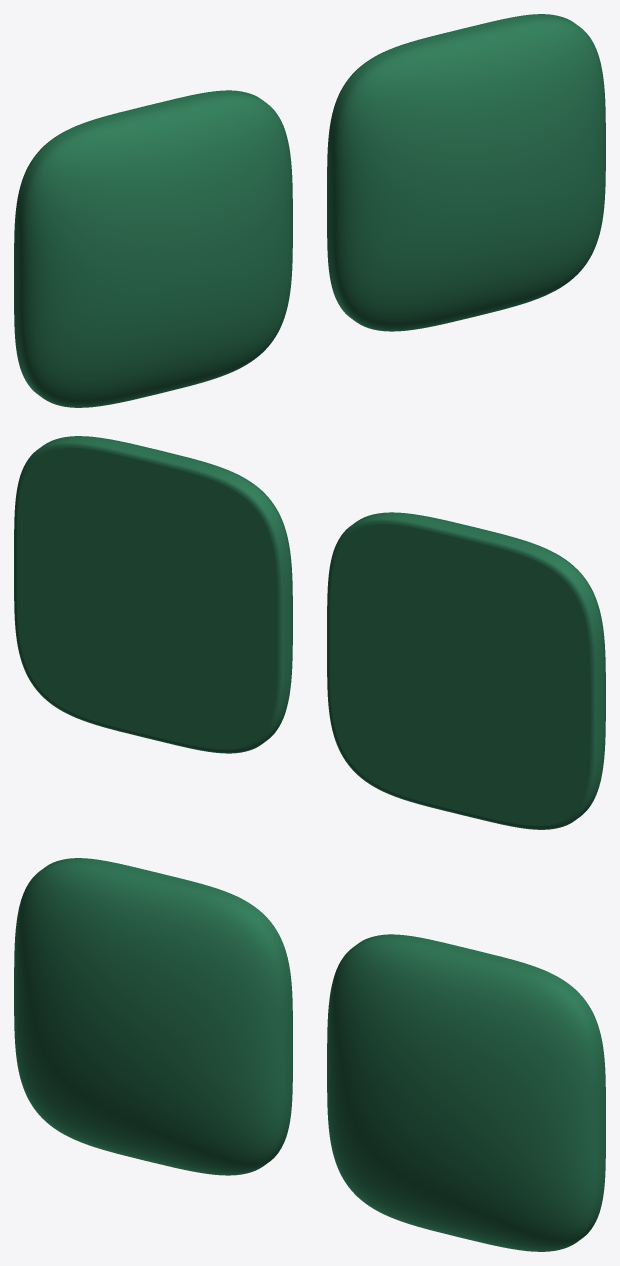
File: matched-pair-v1.glb
3 renders of one model, top to bottom at view 1: azimuth 30°, elevation 25°; view 2: azimuth 150°, elevation 25°; view 3: azimuth 330°, elevation 25°, orthographic.
Visible parts, largest first — view 1: Cushion Cabochon 17x17x4mm, Cushion Cabochon 17x17x4mm.001; view 2: Cushion Cabochon 17x17x4mm.001, Cushion Cabochon 17x17x4mm; view 3: Cushion Cabochon 17x17x4mm.001, Cushion Cabochon 17x17x4mm.
Part boxes in pixels (box(x1,y1,x2,y2)): Cushion Cabochon 17x17x4mm: box(14, 90, 292, 407); Cushion Cabochon 17x17x4mm.001: box(327, 14, 605, 331); Cushion Cabochon 17x17x4mm.001: box(14, 436, 292, 753); Cushion Cabochon 17x17x4mm: box(327, 512, 605, 829); Cushion Cabochon 17x17x4mm.001: box(327, 934, 605, 1251); Cushion Cabochon 17x17x4mm: box(14, 858, 292, 1175).
Size of the model in its own units: 0.0367 by 0.017 by 0.00398.
